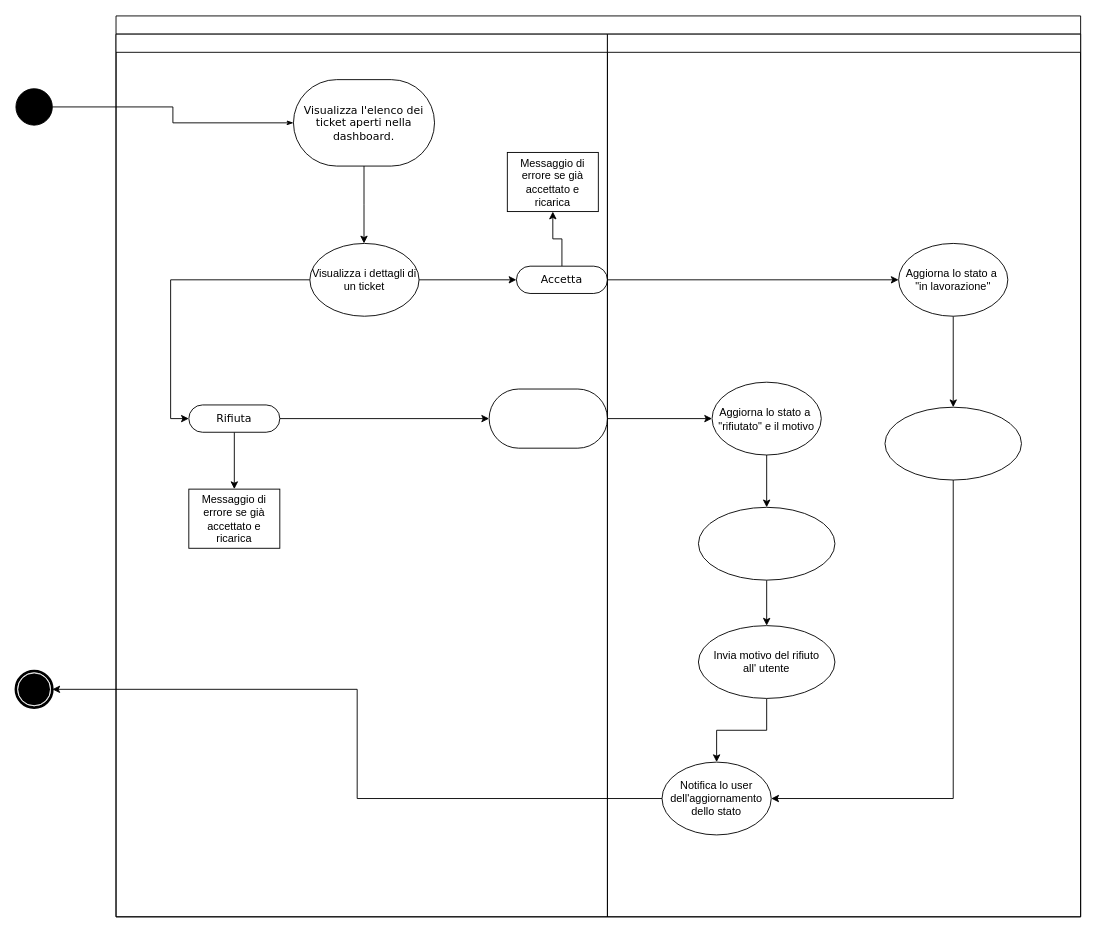
The diagram is 1097 pixels wide and 933 high, and some of its shapes have lost their labels. The box of each missing label's shape, as (x1, y1, x2, y2) in pixels:
API di TNFIX: (607, 33, 1081, 917)
Seleziona motivo da un menù a tendina: (488, 388, 607, 448)
Sposta il ticket nella sezione "in lavorazione": (884, 406, 1021, 480)
Sposta il ticket nella sezione "Rifiutati": (698, 506, 835, 580)
Tecnico: (115, 33, 607, 917)
